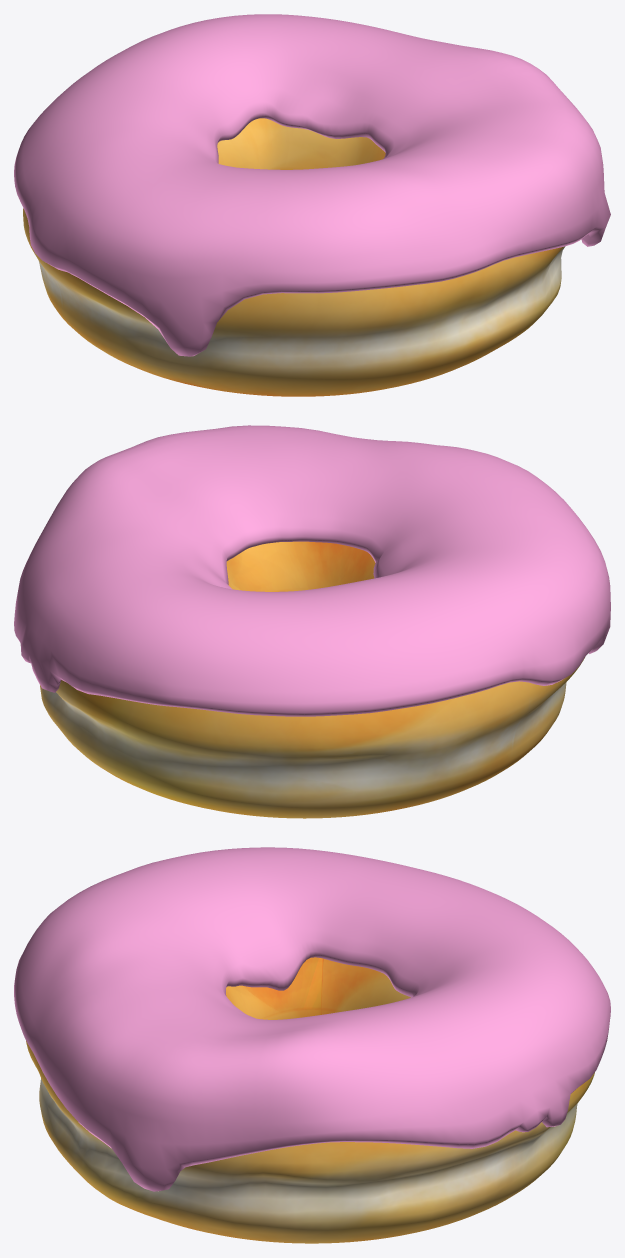
Rendered from donut.glb.
3 renders of one model, top to bottom at view 1: azimuth 30°, elevation 25°; view 2: azimuth 150°, elevation 25°; view 3: azimuth 270°, elevation 25°, orthographic. The views are drawn at different scales.
Visible parts, largest first — view 1: Cream, Donut; view 2: Cream, Donut; view 3: Cream, Donut.
Part boxes in pixels (x1,y1,x2,y2): Cream: [14, 14, 610, 356]; Donut: [23, 118, 565, 396]; Cream: [14, 425, 610, 716]; Donut: [40, 541, 584, 818]; Cream: [14, 847, 610, 1191]; Donut: [26, 957, 594, 1243].
Bounding box in the file's own units: 0.0829 × 0.0337 × 0.0819.
2 materials, 1 textured.
